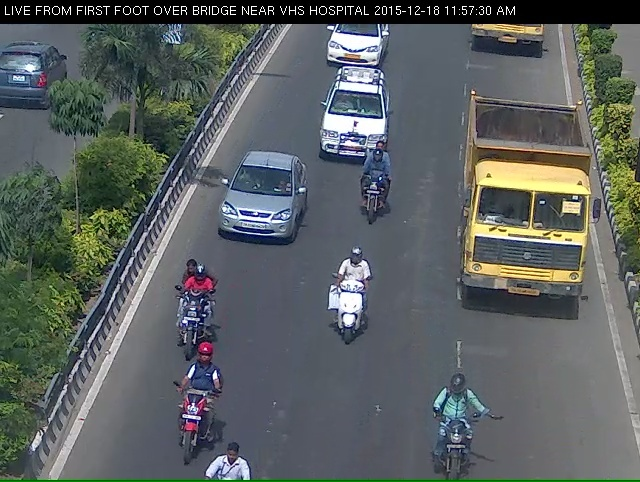Bus: (456, 112, 593, 323)
Car: (214, 164, 300, 263), (320, 80, 386, 170), (321, 21, 385, 73)
Person: (323, 273, 370, 371), (432, 400, 485, 478), (166, 272, 205, 367), (160, 392, 193, 478), (357, 165, 389, 242)
